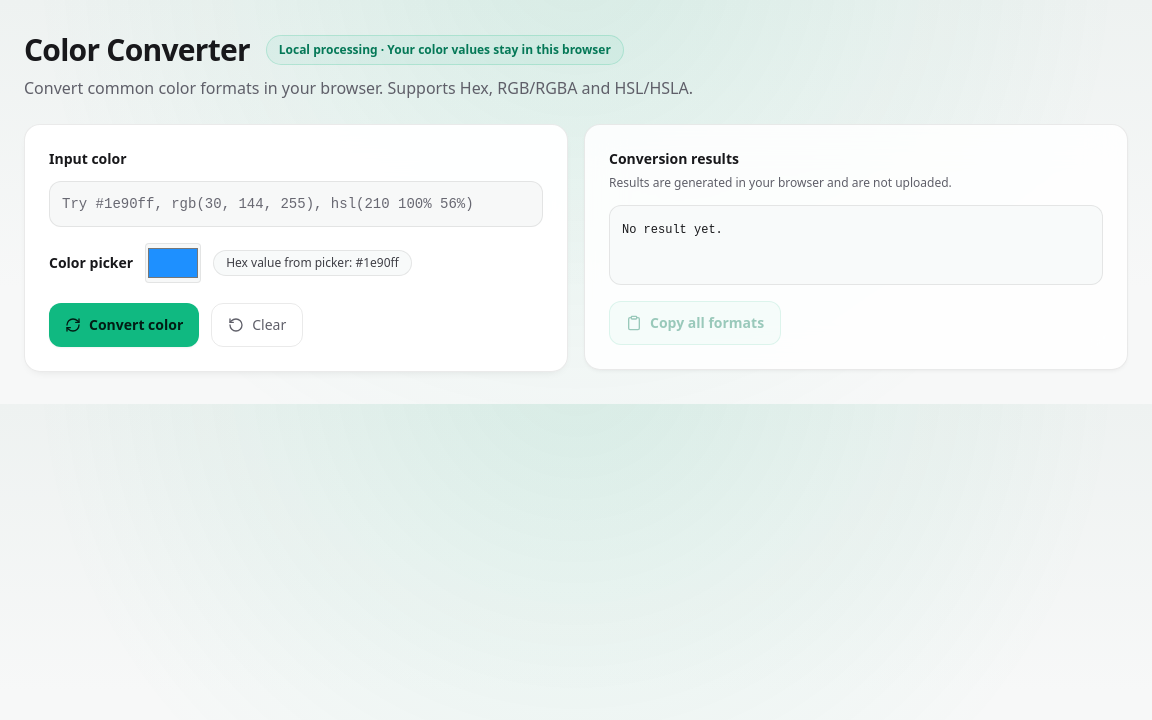
ColorConverterClient › converts hex input and shows all formats
This screenshot has width=1152, height=720.
Type "#ff0000" into the field named "Input color" at (296, 204), box [49,181,543,227]
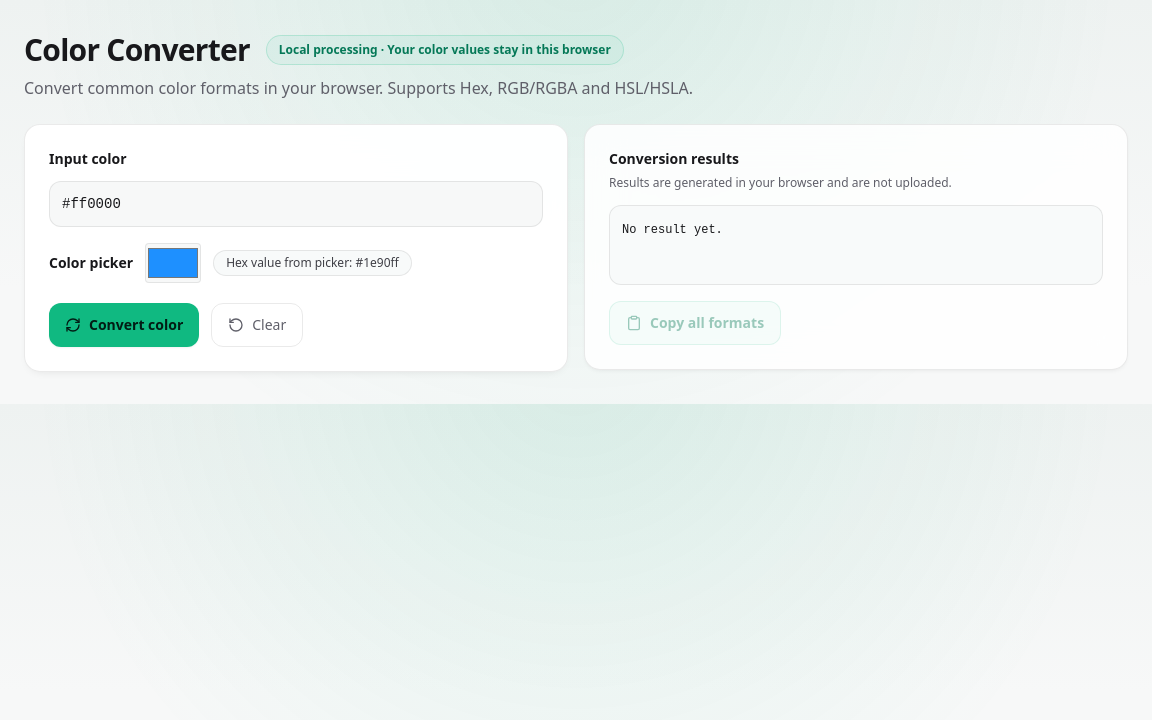
Click the button "Convert color" at (124, 325), box [49,303,199,347]
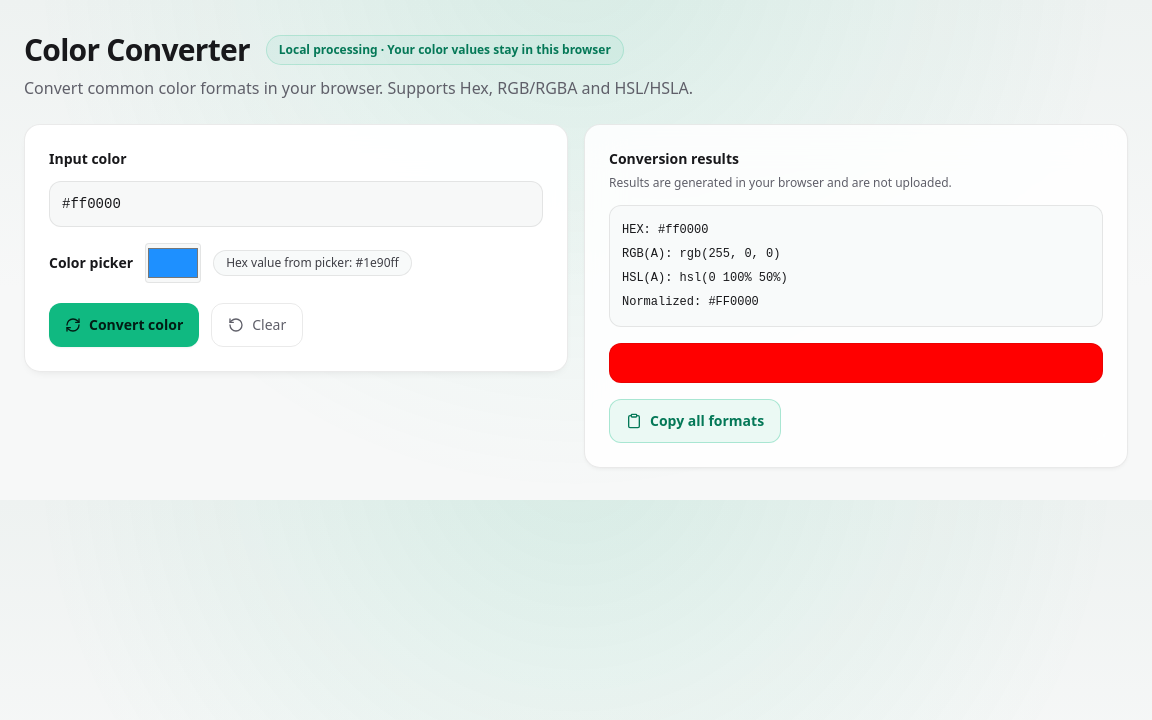
Now the text with test id "color-output" shows "HEX: #ff0000", box [622,223,788,309]
Now the text with test id "color-output" shows "RGB(A): rgb(255, 0, 0)", box [622,223,788,309]
Now the text with test id "color-output" shows "HSL(A): hsl(0 100% 50%)", box [622,223,788,309]
